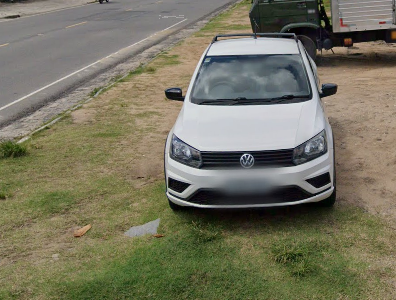car: (158, 26, 348, 220)
